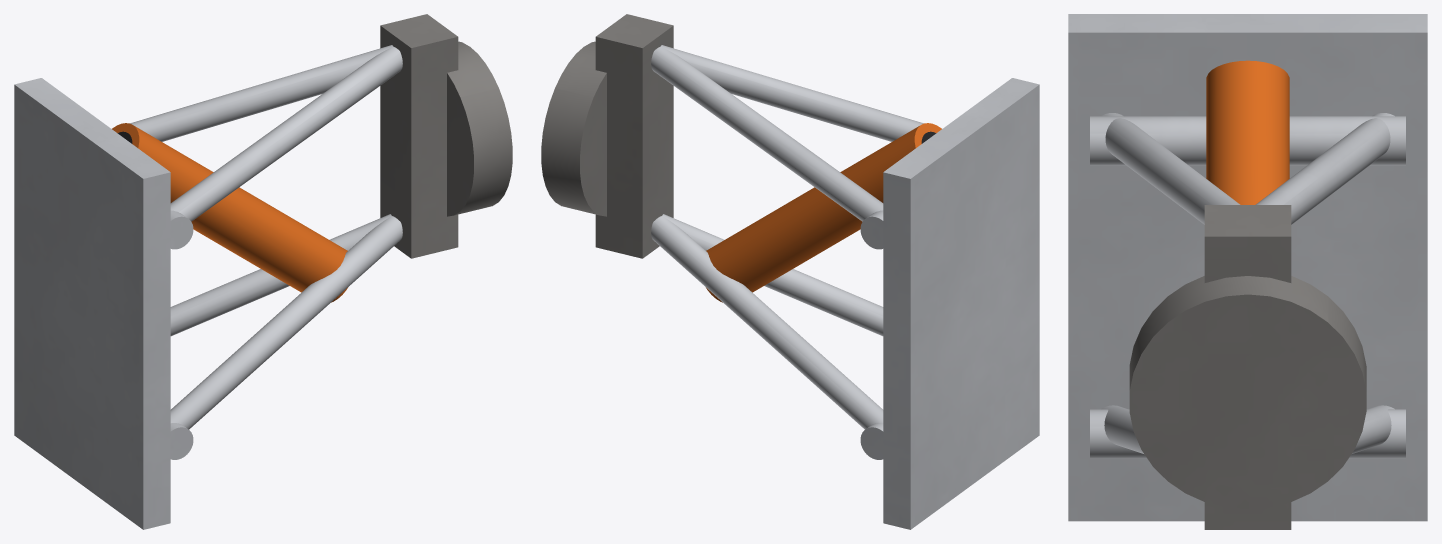
Rendered from rover17_suspension_arm_l_susp_up.glb.
The picture shows the model from 3 angles, left to right: view 1: azimuth 30°, elevation 25°; view 2: azimuth 150°, elevation 25°; view 3: azimuth 270°, elevation 25°; orthographic projection. The views are drawn at different scales.
Parts seen in each view (by area): view 1: mount_plate, arm_upright, arm_upper, arm_lower, spring; view 2: mount_plate, arm_upright, arm_upper, arm_lower, spring; view 3: mount_plate, arm_upright, arm_upper, spring, arm_lower.
Part boxes in pixels (<box>): mount_plate: <box>14,78,170,529</box>; arm_upright: <box>380,14,512,258</box>; arm_upper: <box>130,45,402,249</box>; arm_lower: <box>170,214,402,459</box>; spring: <box>112,123,347,302</box>; mount_plate: <box>883,78,1039,529</box>; arm_upright: <box>541,14,673,258</box>; arm_upper: <box>651,45,923,249</box>; arm_lower: <box>651,214,883,459</box>; spring: <box>706,123,941,302</box>; mount_plate: <box>1068,14,1427,521</box>; arm_upright: <box>1129,205,1366,529</box>; arm_upper: <box>1090,113,1405,224</box>; spring: <box>1206,60,1289,204</box>; arm_lower: <box>1090,405,1405,458</box>.
Size of the model in its own units: 0.7 by 0.63 by 0.4.
4 materials, 2 textured.
